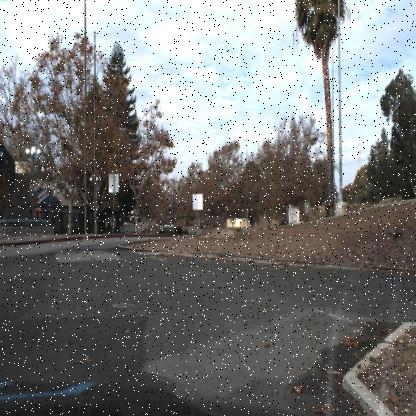car: (164, 223, 175, 230)
truck: (130, 208, 141, 223)
